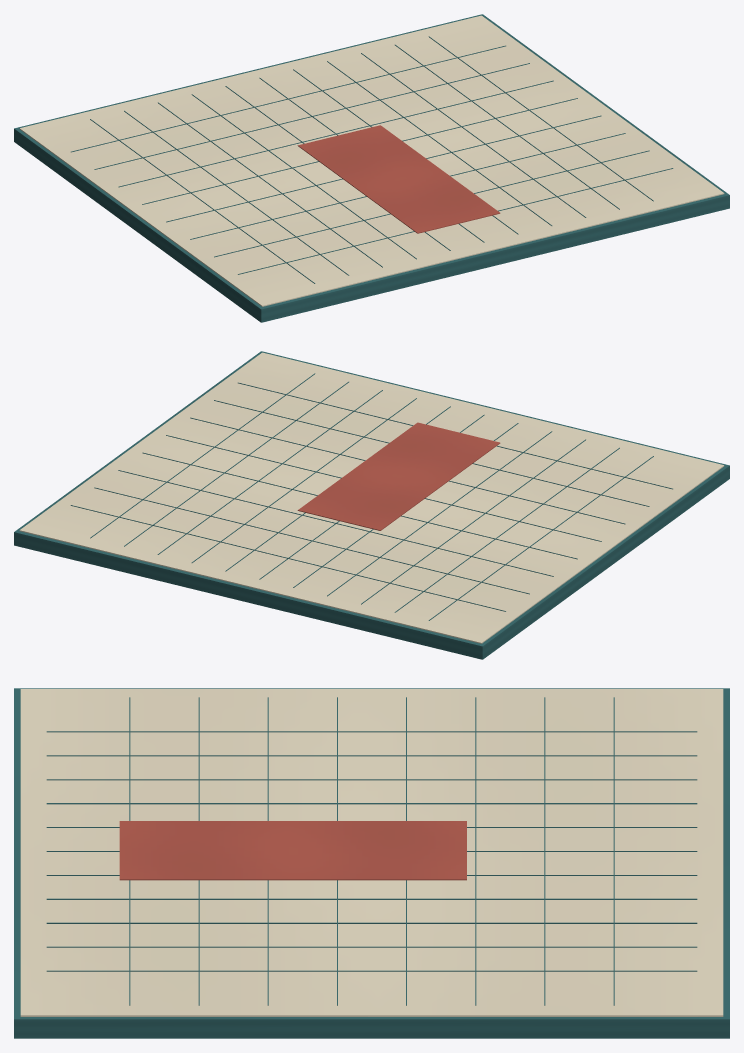
Rendered from atlas100-s031-a07.glb.
3 views of the same model, one above another, from view 1: azimuth 30°, elevation 25°; view 2: azimuth 150°, elevation 25°; view 3: azimuth 270°, elevation 25° (orthographic). The views are drawn at different scales.
Parts seen in each view (by area): view 1: atlas100-s031-a07:part-001, atlas100-s031-a07:part-000, atlas100-s031-a07:part-021, atlas100-s031-a07:part-015, atlas100-s031-a07:part-014, atlas100-s031-a07:part-013, atlas100-s031-a07:part-017, atlas100-s031-a07:part-016, atlas100-s031-a07:part-019, atlas100-s031-a07:part-018, atlas100-s031-a07:part-020; view 2: atlas100-s031-a07:part-001, atlas100-s031-a07:part-000, atlas100-s031-a07:part-021, atlas100-s031-a07:part-013, atlas100-s031-a07:part-015, atlas100-s031-a07:part-014, atlas100-s031-a07:part-016, atlas100-s031-a07:part-017, atlas100-s031-a07:part-019, atlas100-s031-a07:part-018, atlas100-s031-a07:part-020; view 3: atlas100-s031-a07:part-001, atlas100-s031-a07:part-000, atlas100-s031-a07:part-021, atlas100-s031-a07:part-009, atlas100-s031-a07:part-011, atlas100-s031-a07:part-012, atlas100-s031-a07:part-004, atlas100-s031-a07:part-005, atlas100-s031-a07:part-002, atlas100-s031-a07:part-003, atlas100-s031-a07:part-010, atlas100-s031-a07:part-015 (+2 smaller).
Boxes of the visible parts, x1,y1,x2,y2 form: atlas100-s031-a07:part-001: (19, 15, 724, 306); atlas100-s031-a07:part-000: (14, 14, 729, 322); atlas100-s031-a07:part-021: (297, 125, 500, 233); atlas100-s031-a07:part-015: (118, 80, 553, 187); atlas100-s031-a07:part-014: (94, 63, 529, 169); atlas100-s031-a07:part-013: (71, 45, 505, 152); atlas100-s031-a07:part-017: (166, 115, 601, 222); atlas100-s031-a07:part-016: (142, 98, 577, 204); atlas100-s031-a07:part-019: (214, 150, 649, 257); atlas100-s031-a07:part-018: (190, 133, 625, 239); atlas100-s031-a07:part-020: (238, 168, 673, 274); atlas100-s031-a07:part-001: (19, 352, 724, 643); atlas100-s031-a07:part-000: (14, 351, 729, 659); atlas100-s031-a07:part-021: (297, 422, 500, 530); atlas100-s031-a07:part-013: (70, 505, 505, 611); atlas100-s031-a07:part-015: (118, 470, 553, 576); atlas100-s031-a07:part-014: (94, 487, 529, 594); atlas100-s031-a07:part-016: (142, 452, 577, 559); atlas100-s031-a07:part-017: (166, 435, 601, 541); atlas100-s031-a07:part-019: (214, 400, 649, 506); atlas100-s031-a07:part-018: (190, 417, 625, 524); atlas100-s031-a07:part-020: (238, 382, 672, 489); atlas100-s031-a07:part-001: (20, 689, 723, 1016); atlas100-s031-a07:part-000: (14, 688, 729, 1038); atlas100-s031-a07:part-021: (119, 821, 466, 880); atlas100-s031-a07:part-009: (46, 898, 697, 899); atlas100-s031-a07:part-011: (46, 946, 697, 947); atlas100-s031-a07:part-012: (46, 970, 697, 971); atlas100-s031-a07:part-004: (46, 779, 697, 780); atlas100-s031-a07:part-005: (46, 803, 697, 804); atlas100-s031-a07:part-002: (46, 731, 697, 732); atlas100-s031-a07:part-003: (46, 755, 697, 756); atlas100-s031-a07:part-010: (46, 922, 697, 923); atlas100-s031-a07:part-015: (475, 697, 476, 1005).
Bounding box in the file's own units: 12.46 × 0.404 × 11.39.
Materials: 3 (3 with a texture image).
